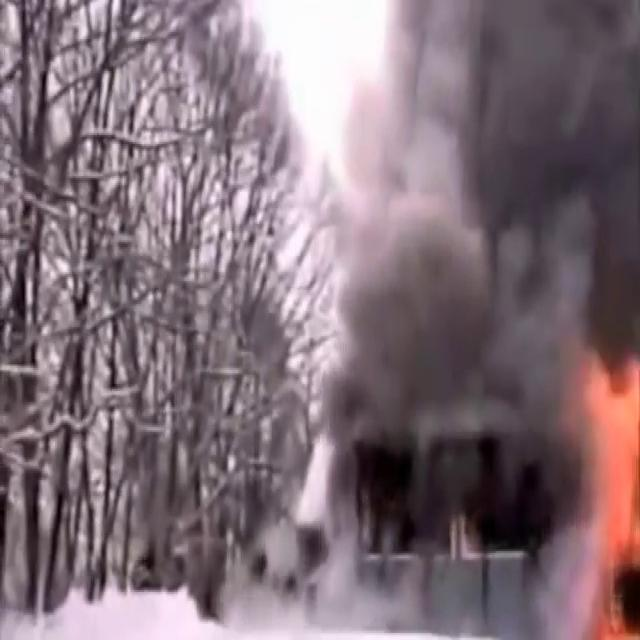Fire: (563, 338, 640, 636)
Smoke: (275, 0, 640, 619)
